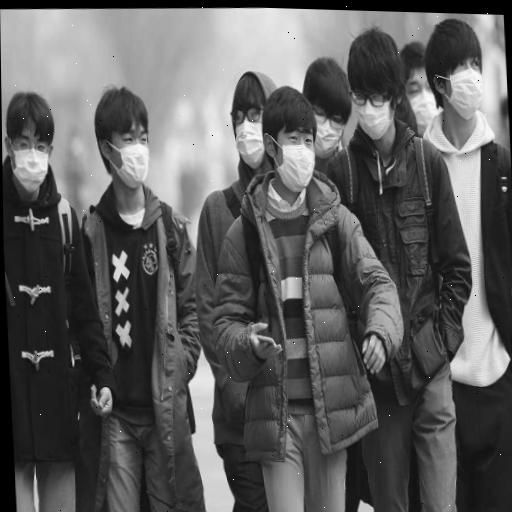mask: (418, 15, 486, 130), (341, 29, 408, 145), (88, 85, 157, 197), (257, 83, 321, 196), (296, 49, 354, 165), (1, 86, 62, 194), (220, 66, 278, 175), (397, 38, 445, 139)
